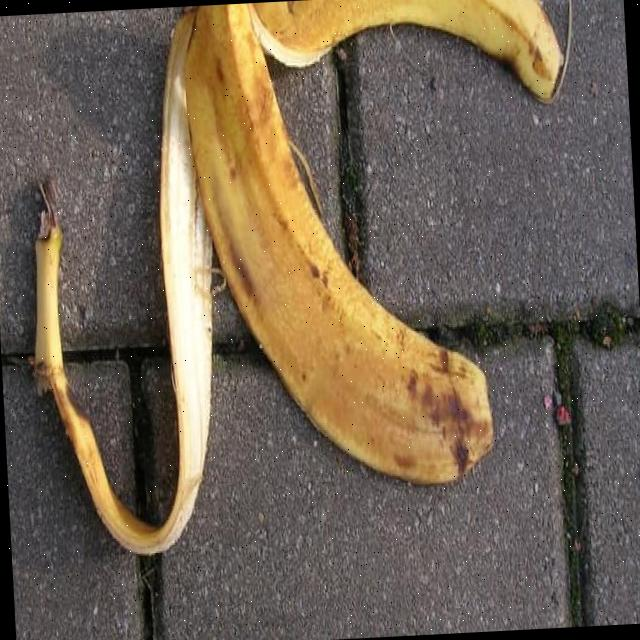banana-peel: (174, 0, 586, 498)
